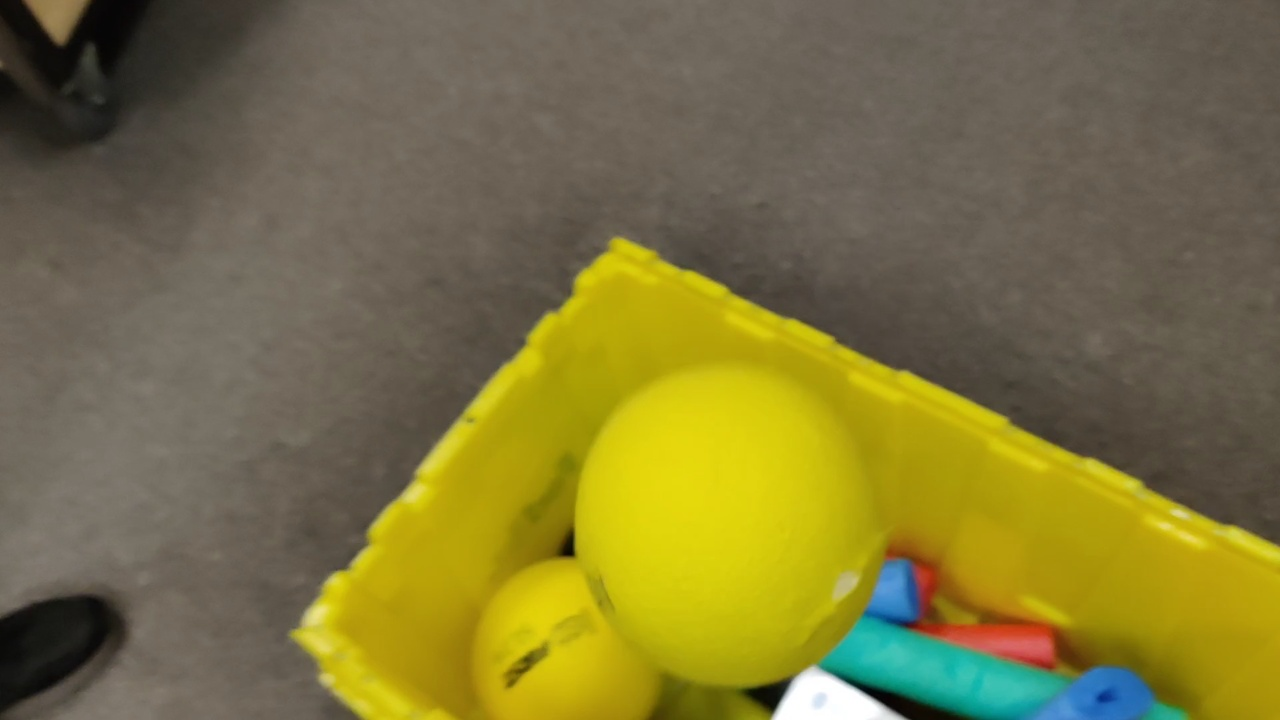Ball: (572, 355, 872, 691), (468, 550, 667, 720)
